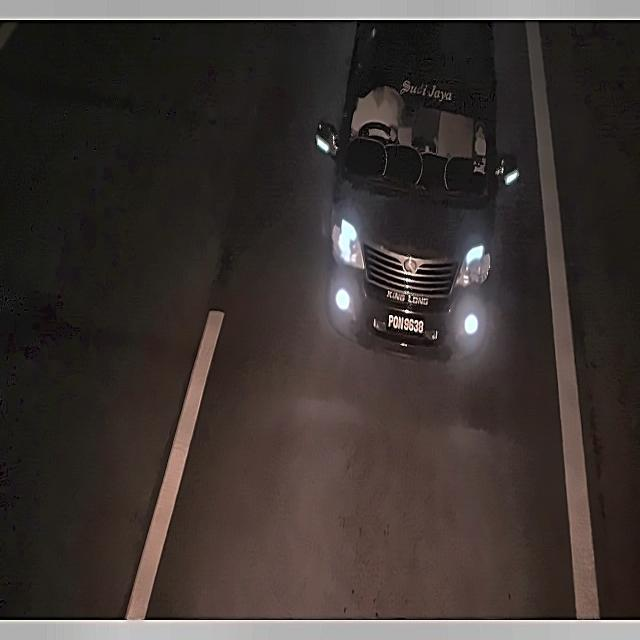car: (381, 310, 427, 343)
